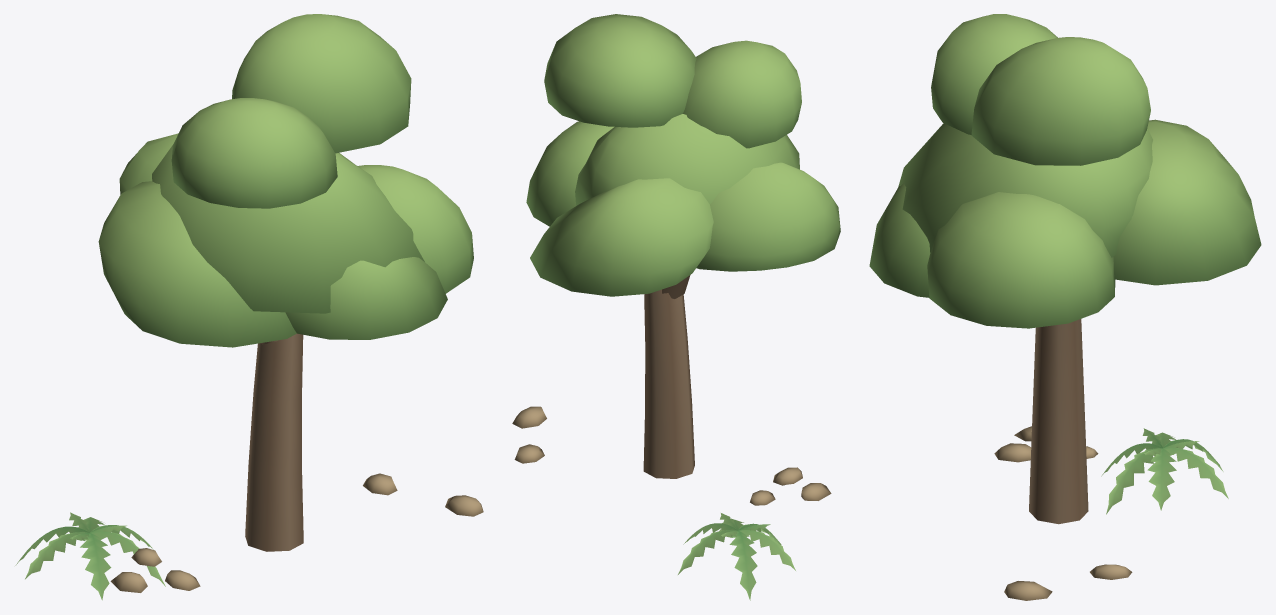
File: forest_tree.glb
3 views of the same model, side by side, from view 1: azimuth 30°, elevation 25°; view 2: azimuth 150°, elevation 25°; view 3: azimuth 270°, elevation 25° (orthographic). The views are drawn at different scales.
Visible parts, largest first — view 1: body; view 2: body; view 3: body.
Part boxes in pixels (x1,y1,x2,y2): body: (15, 14, 483, 600); body: (512, 14, 840, 600); body: (869, 14, 1261, 600).
Size of the model in its own units: 0.5896 by 0.7926 by 0.5261.
